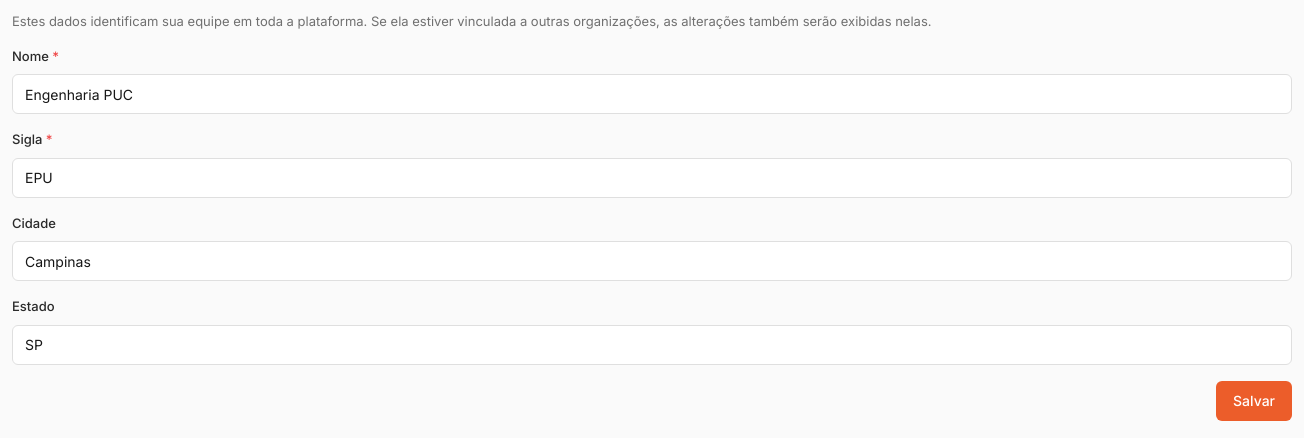
Test case: TeamRegistrationForm › blocks saving without a short name
The image size is (1304, 438).
Clear the field labelled "Sigla" at (652, 178), box [12,158,1292,198]
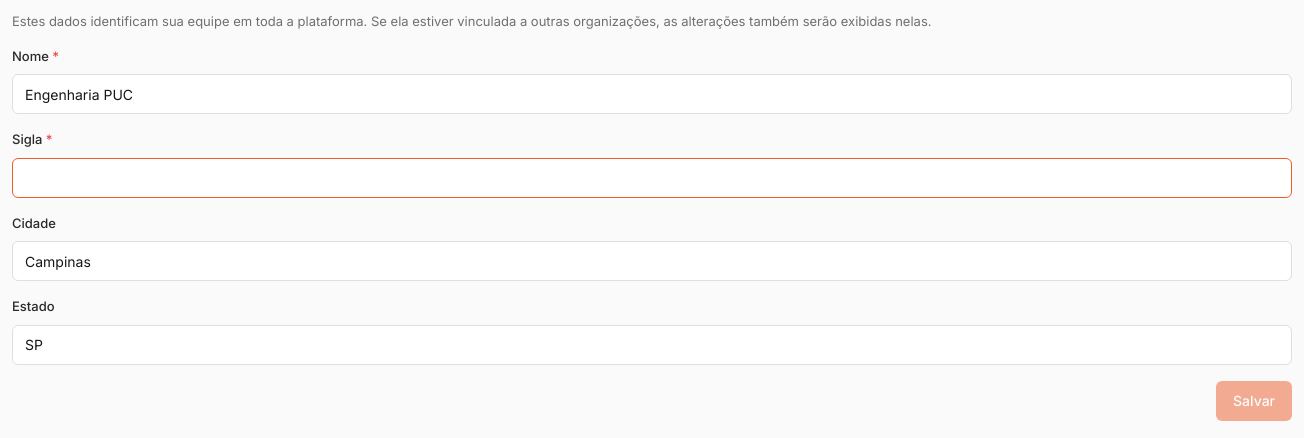
Expected: the button "Salvar" is disabled, [1216,381,1292,421]
